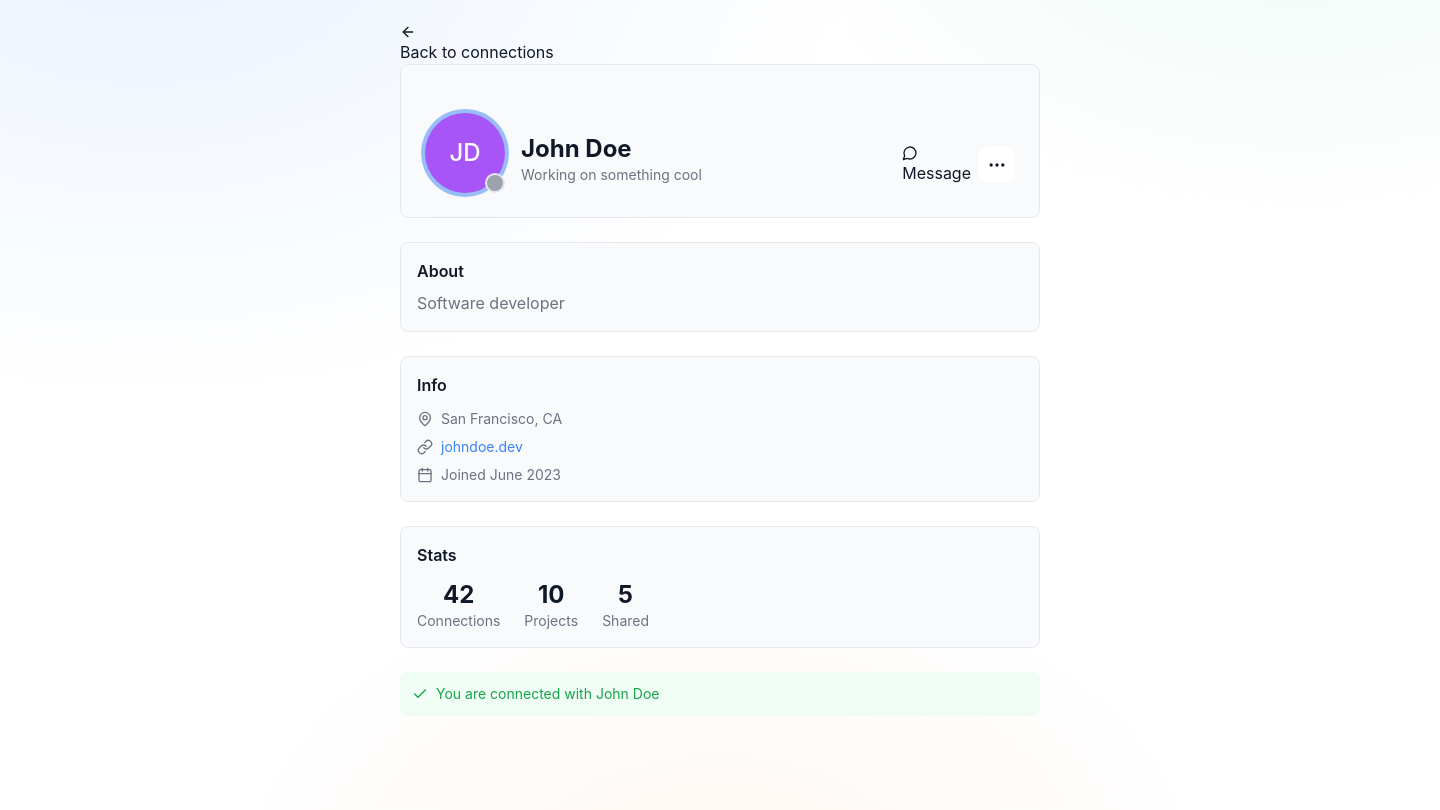
UserProfilePage › opens more options menu when menu button clicked
Click on the more options button - find it by looking for the button containing MoreHorizontal
Click the button. click: (997, 165)
box: left=979, top=147, right=1015, bottom=183
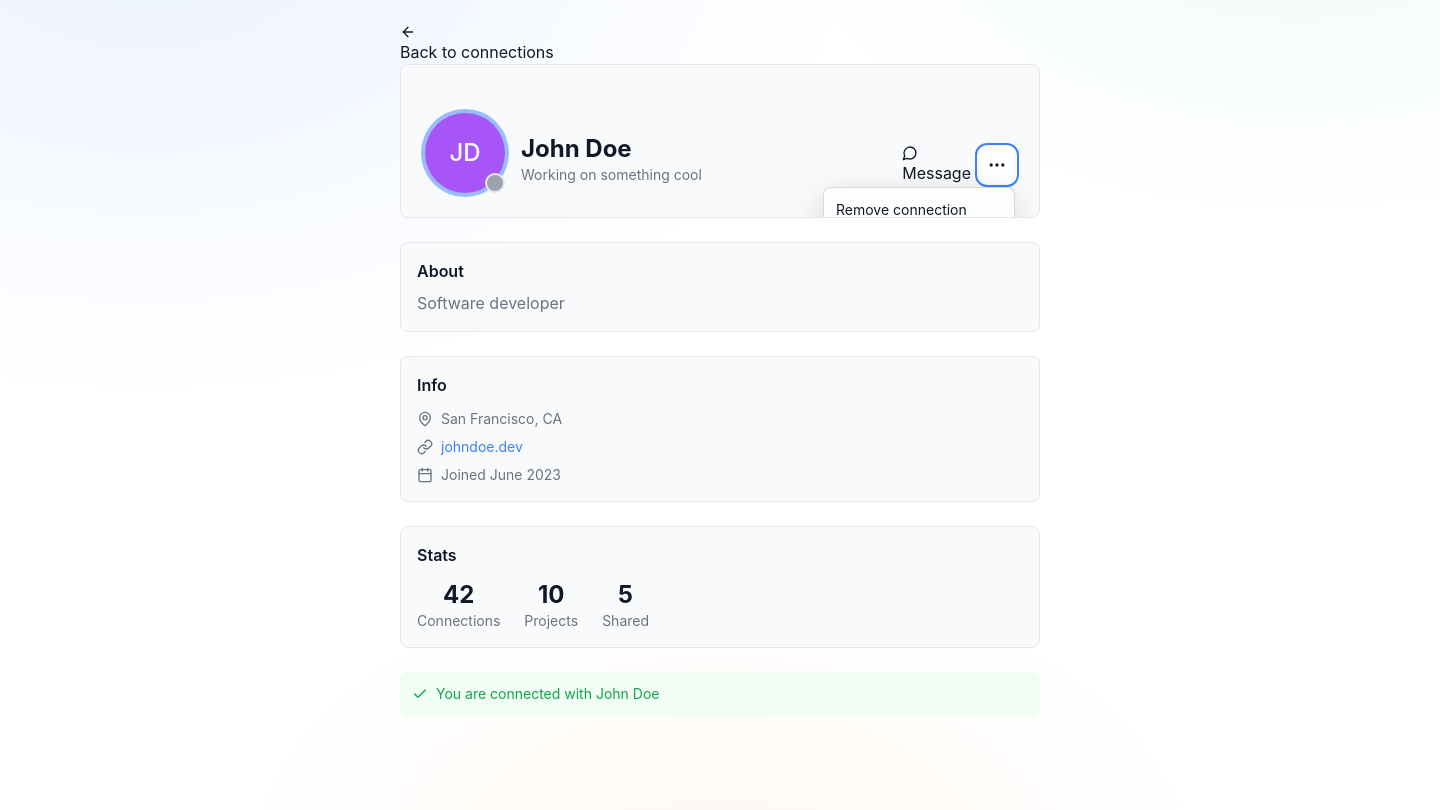
Result: the button "Remove connection" is shown at left=824, top=192, right=1014, bottom=218
